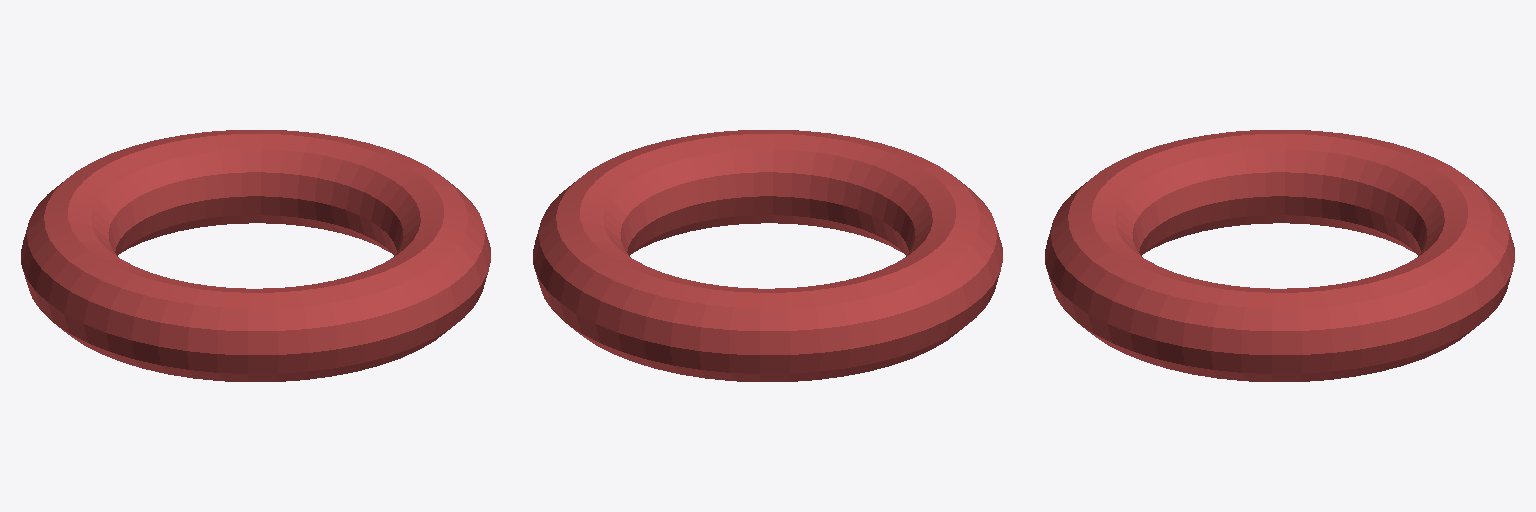
3 renders of one model, left to right at view 1: azimuth 30°, elevation 25°; view 2: azimuth 150°, elevation 25°; view 3: azimuth 270°, elevation 25°, orthographic.
Visible parts, largest first — view 1: Torus; view 2: Torus; view 3: Torus.
Boxes of the visible parts, <box> form: Torus: <box>21,130,490,381</box>; Torus: <box>533,130,1002,381</box>; Torus: <box>1045,130,1514,381</box>.
Size of the model in its own units: 29.52 by 5.91 by 29.52.
1 materials, 1 textured.